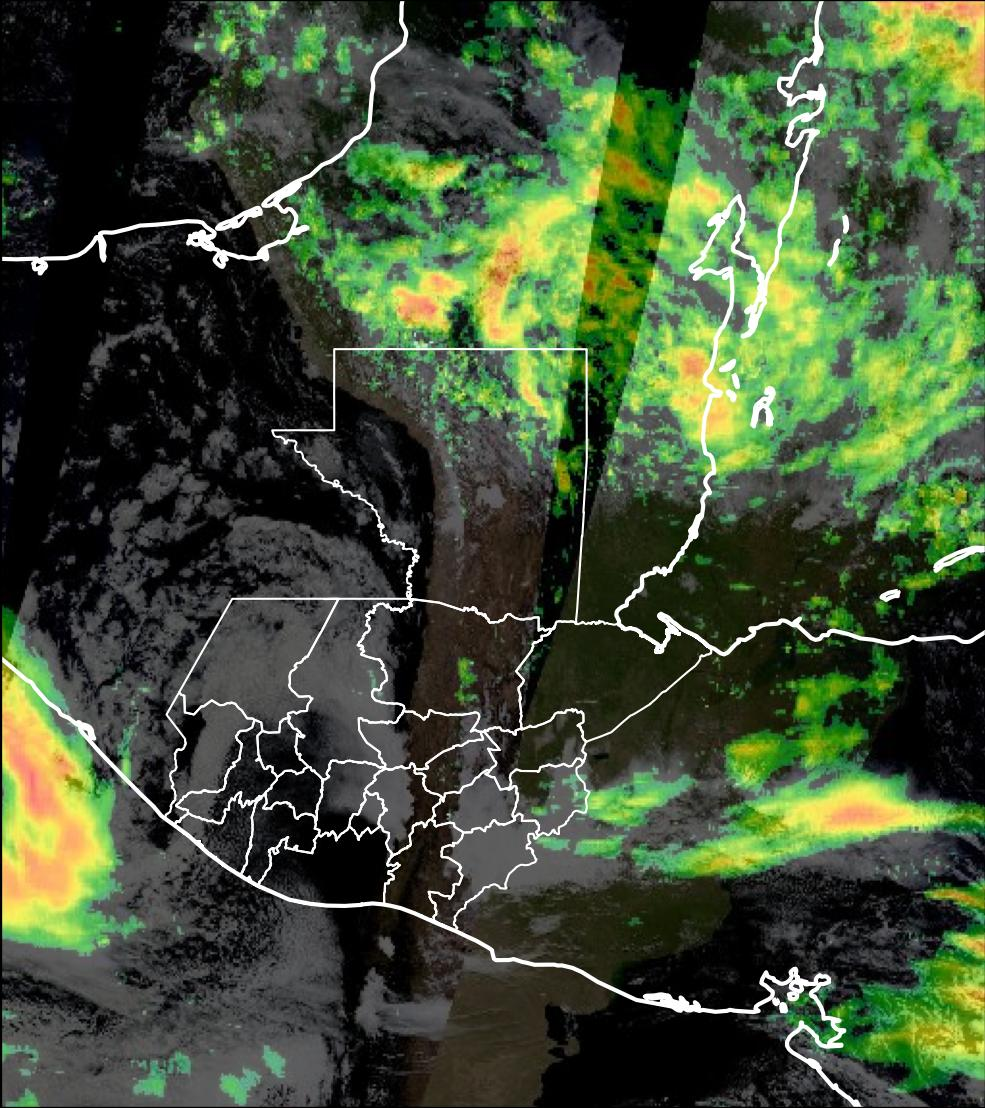precipitacion: (379, 194, 573, 348), (1, 698, 99, 925), (793, 779, 927, 844)
